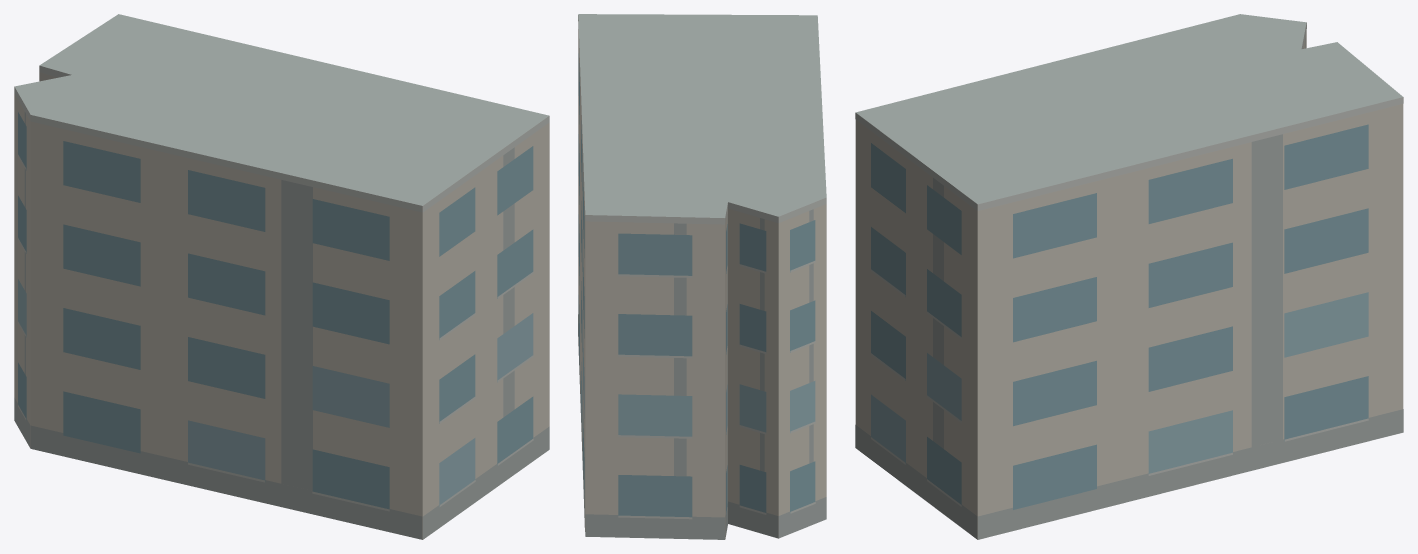
File: survey-upis-32933674.glb
3 renders of one model, left to right at view 1: azimuth 30°, elevation 25°; view 2: azimuth 150°, elevation 25°; view 3: azimuth 270°, elevation 25°, orthographic. The views are drawn at different scales.
Parts seen in each view (by area): view 1: survey-upis-32933674.tmp; view 2: survey-upis-32933674.tmp; view 3: survey-upis-32933674.tmp.
Boxes of the visible parts, bbox=[...] form: survey-upis-32933674.tmp: bbox=[14, 14, 549, 539]; survey-upis-32933674.tmp: bbox=[578, 14, 826, 539]; survey-upis-32933674.tmp: bbox=[855, 14, 1403, 539].
Size of the model in its own units: 14.86 by 12.2 by 18.07.
